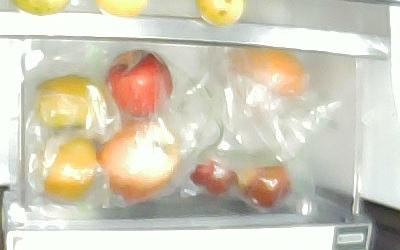apple_vinyl: (94, 117, 180, 198), (103, 47, 173, 118)
grapefruit_vinyl: (228, 47, 309, 100)
persimmon_vinyl: (31, 75, 108, 132), (36, 133, 99, 200)
prune_vinyl: (236, 162, 292, 208), (188, 157, 239, 193)
